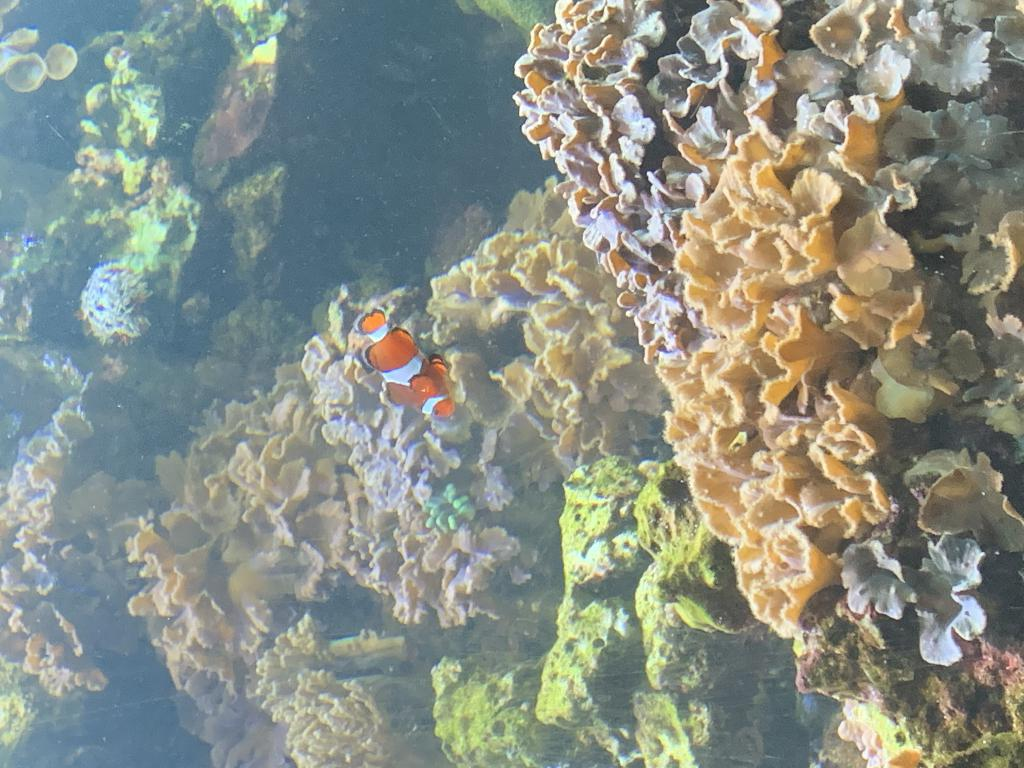fish: (352, 306, 456, 420)
